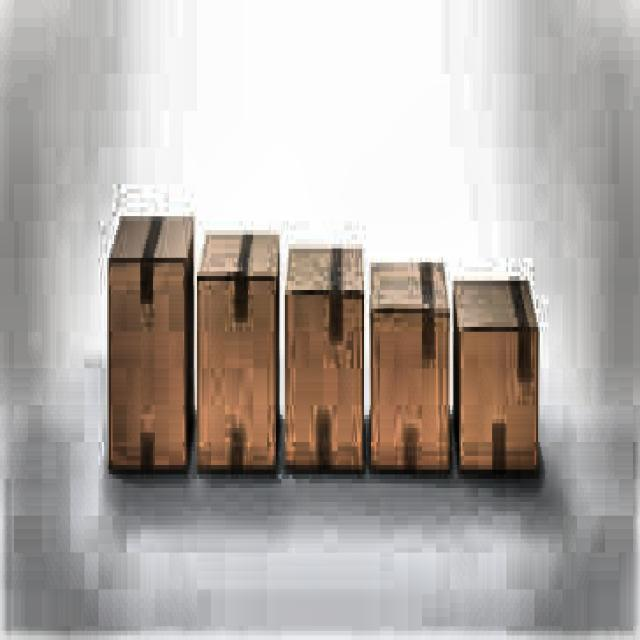cardboard: (108, 212, 194, 469), (195, 230, 278, 470), (283, 245, 364, 470), (368, 258, 450, 470), (452, 276, 538, 470)
